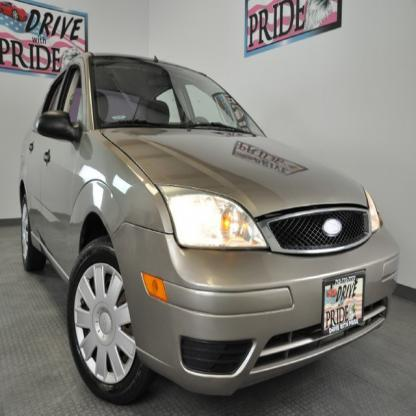Vehicle: (22, 53, 399, 400)
